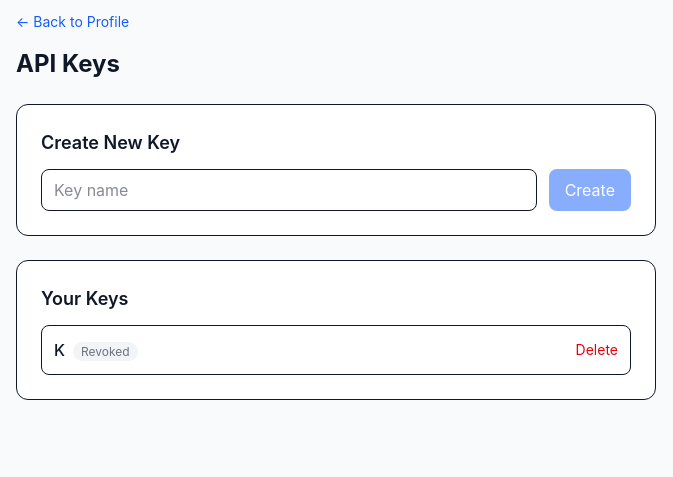
Test: ApiKeysPage › handles remove error
Click the button "Delete": (597, 350) top-left (576, 340), bottom-right (618, 360)
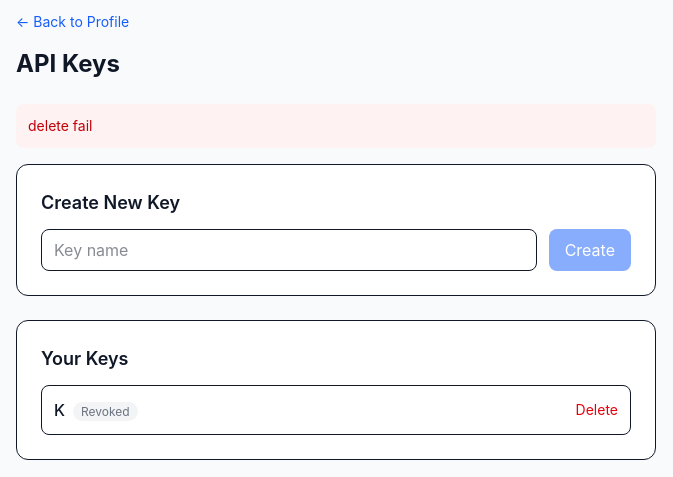
Check: the message reads "delete fail", box top-left (28, 117), bottom-right (92, 134)
